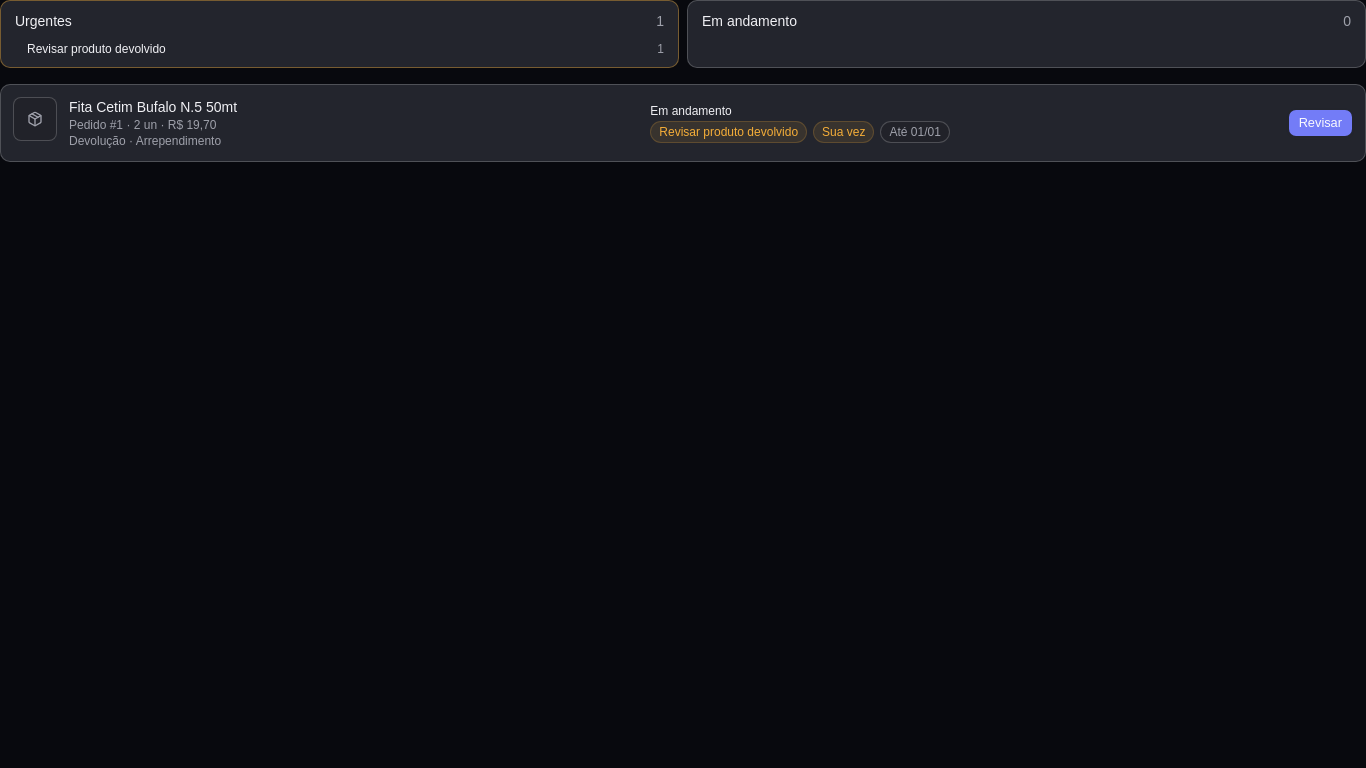
Test: 6. informações antes da decisão › a revisão mostra a situação do retorno e o status do reembolso
Step 1. Click the button "Revisar" → click(1320, 123), box [1288,109,1353,137]
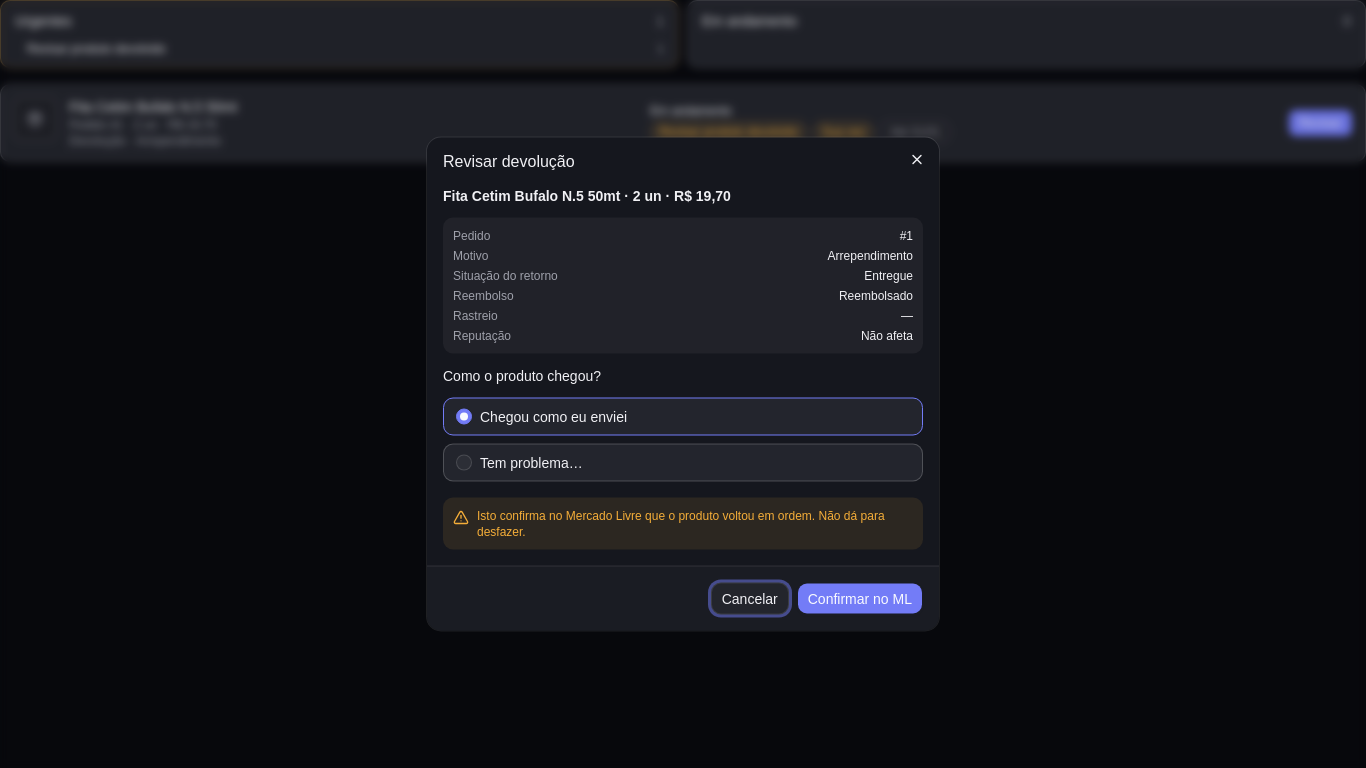
Expected: the text "Entregue" is shown, [864,268,913,284]
Expected: the text "Reembolsado" is shown, [839,288,913,304]
